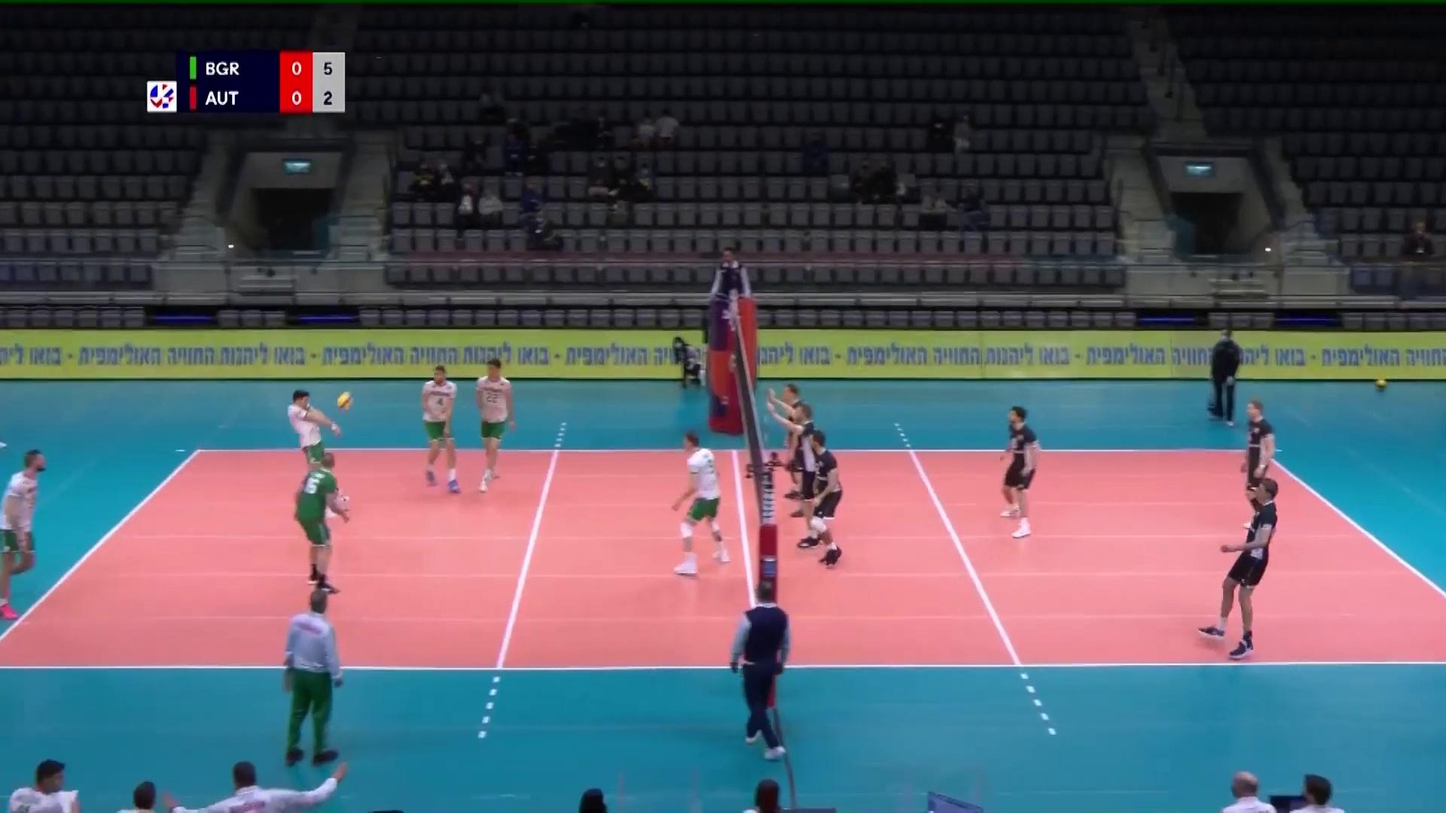ball: (337, 391, 354, 410)
